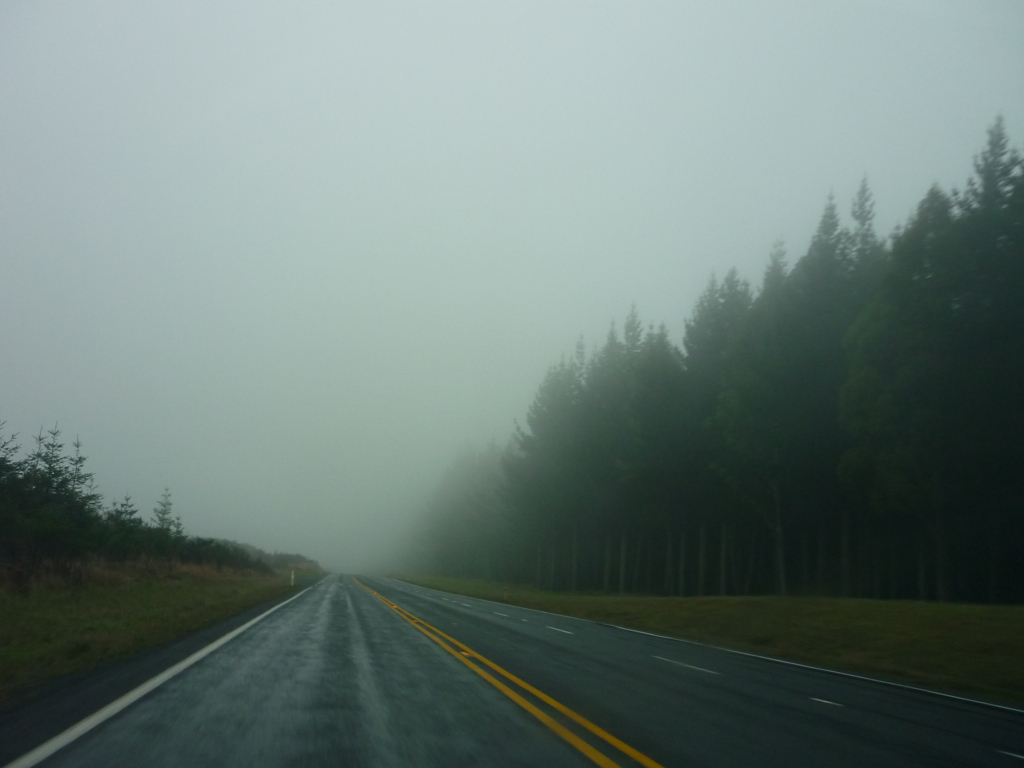Tree: (438, 112, 1024, 595), (0, 414, 270, 578)
